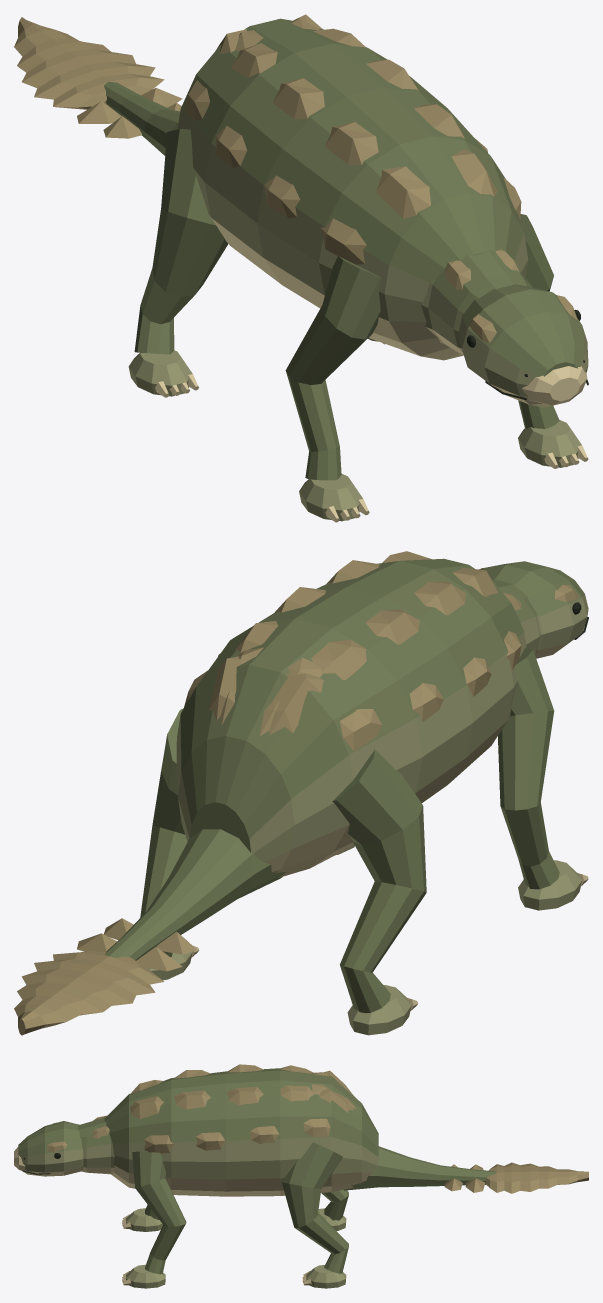
The picture shows the model from 3 angles, top to bottom: view 1: azimuth 30°, elevation 25°; view 2: azimuth 150°, elevation 25°; view 3: azimuth 270°, elevation 25°; orthographic projection. The views are drawn at different scales.
Visible parts, largest first — view 1: skin_torso_head_neck, four_limbs_and_feet, low_osteoderms_and_pelvic_shield, tail_seven_pairs_distal_five_fused, beak_and_short_toe_tips; view 2: skin_torso_head_neck, four_limbs_and_feet, low_osteoderms_and_pelvic_shield, tail_seven_pairs_distal_five_fused; view 3: skin_torso_head_neck, four_limbs_and_feet, low_osteoderms_and_pelvic_shield, tail_seven_pairs_distal_five_fused, beak_and_short_toe_tips.
Part boxes in pixels (<box>): skin_torso_head_neck: <box>104,18,588,407</box>; four_limbs_and_feet: <box>128,129,581,521</box>; low_osteoderms_and_pelvic_shield: <box>183,14,577,342</box>; tail_seven_pairs_distal_five_fused: <box>14,17,182,138</box>; beak_and_short_toe_tips: <box>155,343,588,522</box>; skin_torso_head_neck: <box>104,558,588,960</box>; four_limbs_and_feet: <box>140,647,581,1035</box>; low_osteoderms_and_pelvic_shield: <box>184,551,578,750</box>; tail_seven_pairs_distal_five_fused: <box>14,918,196,1035</box>; skin_torso_head_neck: <box>18,1068,496,1196</box>; four_limbs_and_feet: <box>126,1142,348,1288</box>; low_osteoderms_and_pelvic_shield: <box>47,1064,356,1153</box>; tail_seven_pairs_distal_five_fused: <box>444,1162,588,1193</box>; beak_and_short_toe_tips: <box>14,1147,312,1285</box>.
Size of the model in its own units: 0.544 by 0.6528 by 1.9.
